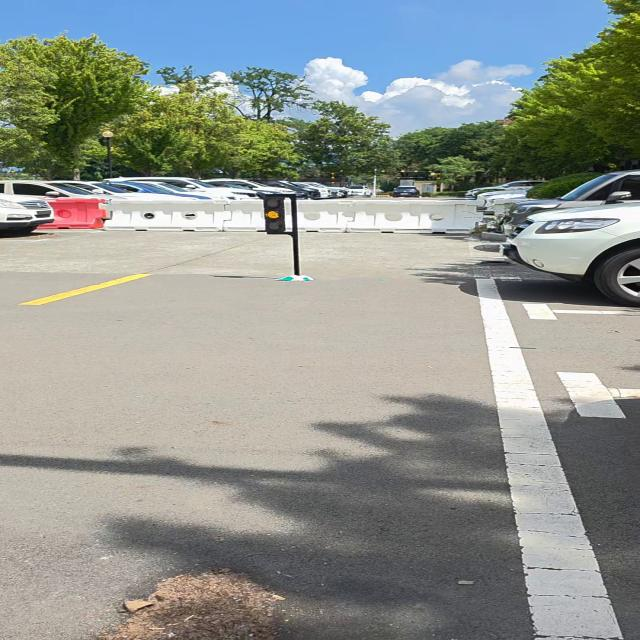yellow: (263, 196, 287, 235)
